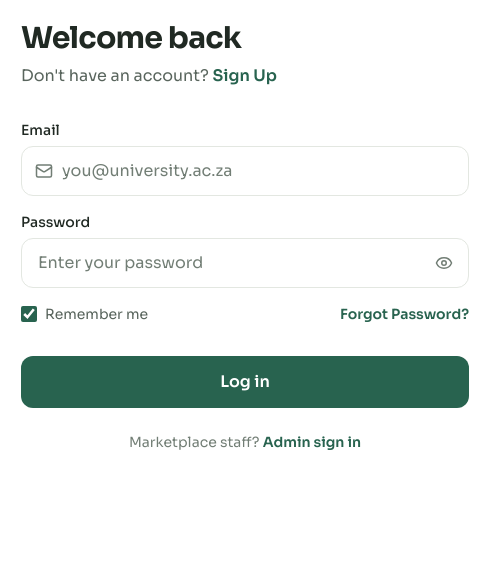
it: Verification recovery › offers the verification recovery page after an unverified login attempt
Type "buyer@example.ac.za" into the field labelled "Email" at (245, 171), box [21, 146, 469, 196]
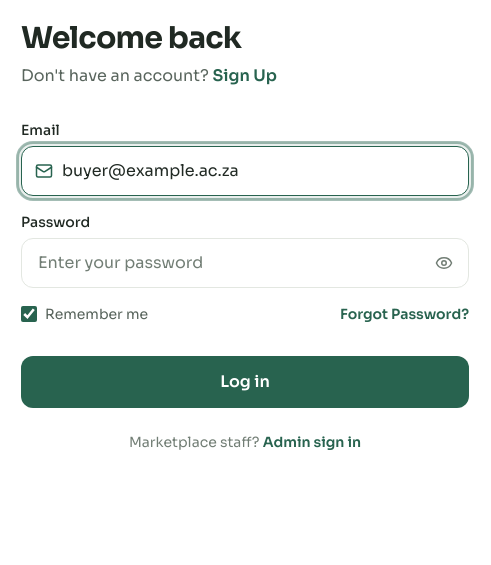
Type "password123" into the password field labelled "Password" at (245, 263), box [21, 238, 469, 288]
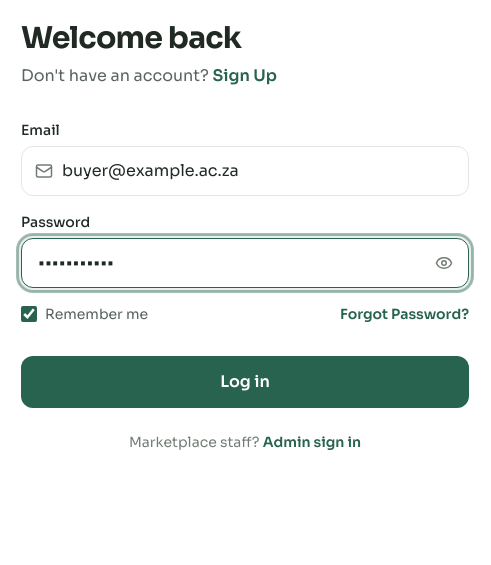
Click the button "Log in" at (245, 382), box [21, 356, 469, 408]
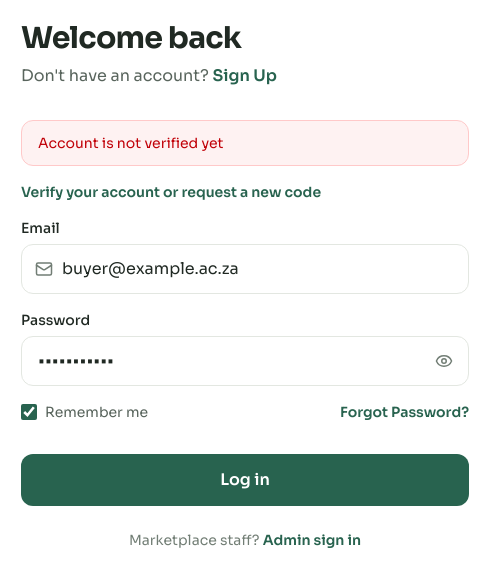
Click the link "Verify your account or request a new code" at (171, 192), box [21, 183, 321, 201]
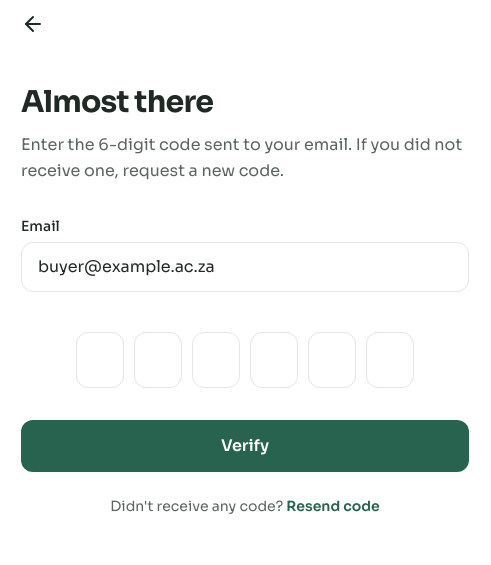
Expected: the field labelled "Email" holds "buyer@example.ac.za", [21, 242, 469, 292]
Expected: the heading "Almost there" is shown, [21, 83, 213, 121]
